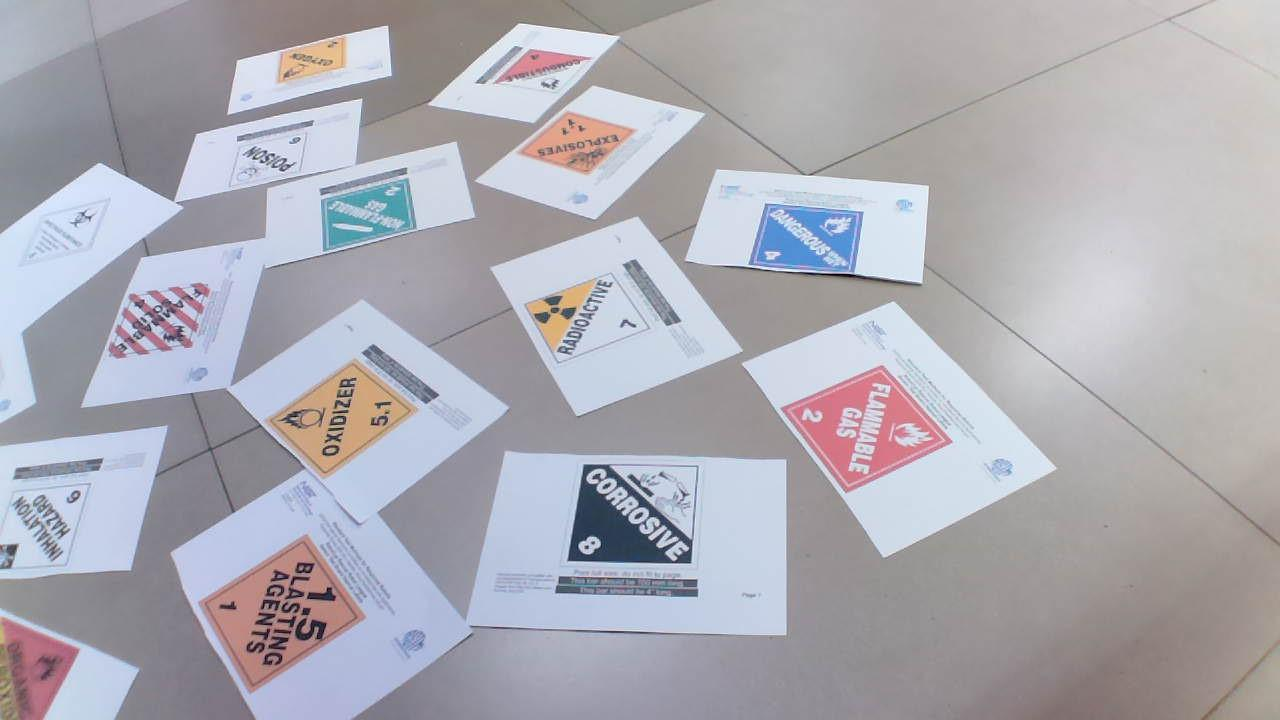corrosive: (563, 461, 708, 569)
dangerous-when-wet: (753, 201, 869, 280)
explosive: (186, 534, 380, 697), (516, 104, 649, 177)
flammable: (776, 366, 957, 492)
flammable-solid: (113, 286, 215, 359)
infectious-substance: (17, 194, 116, 268)
non-flammable-gas: (316, 171, 426, 250)
organic-peroxide: (1, 611, 90, 720)
oxidizer: (262, 360, 422, 473), (272, 33, 352, 81)
poison: (1, 476, 95, 578), (222, 130, 315, 186)
radioactive: (524, 271, 654, 359)
spontaneously-combustible: (487, 40, 596, 99)
